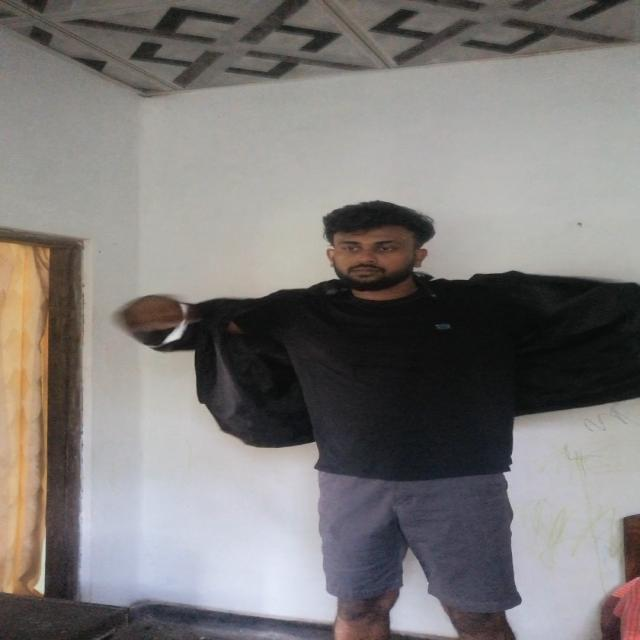Jacket_Wearer: (158, 272, 640, 468)
